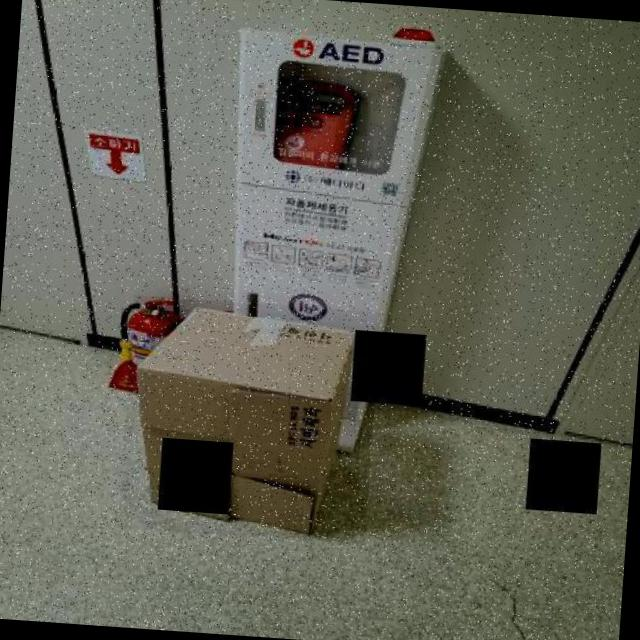box: (117, 294, 380, 544)
